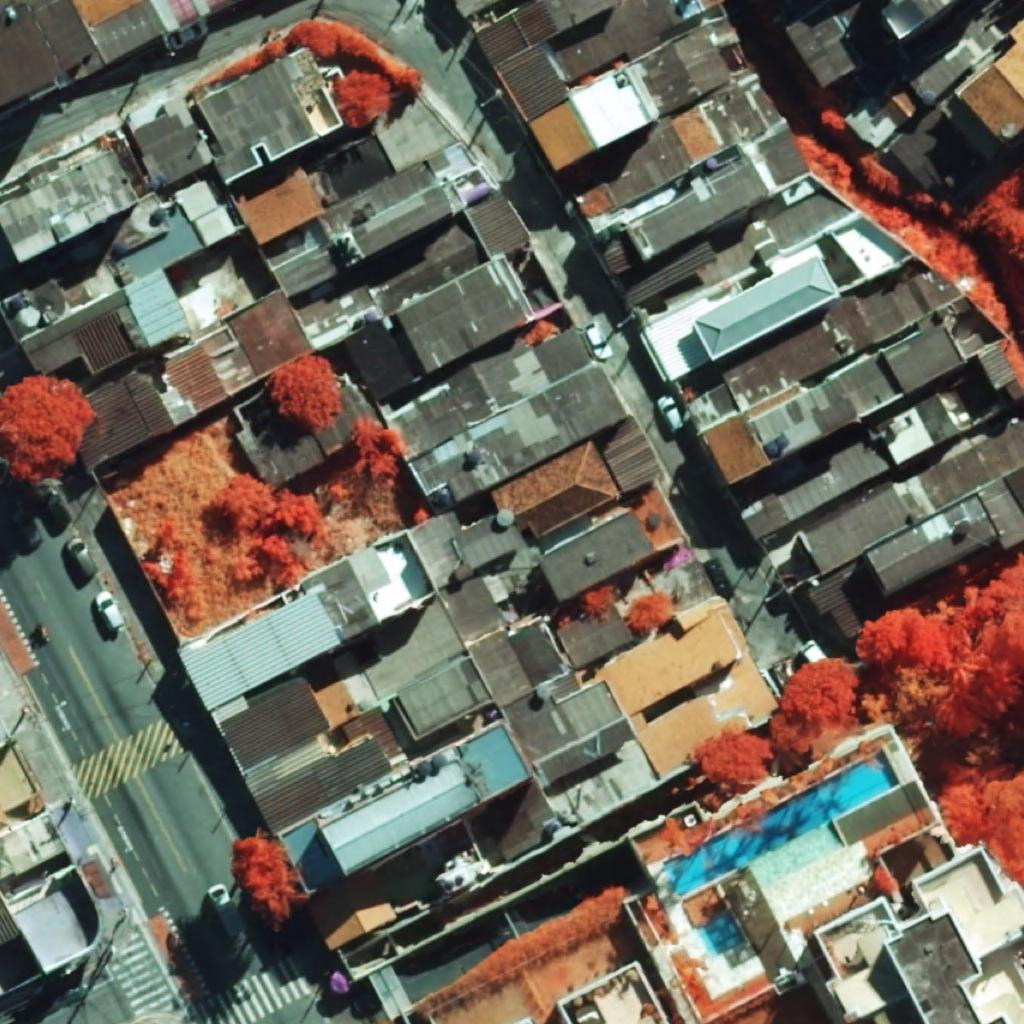pool: (663, 751, 899, 898), (698, 911, 745, 956)
